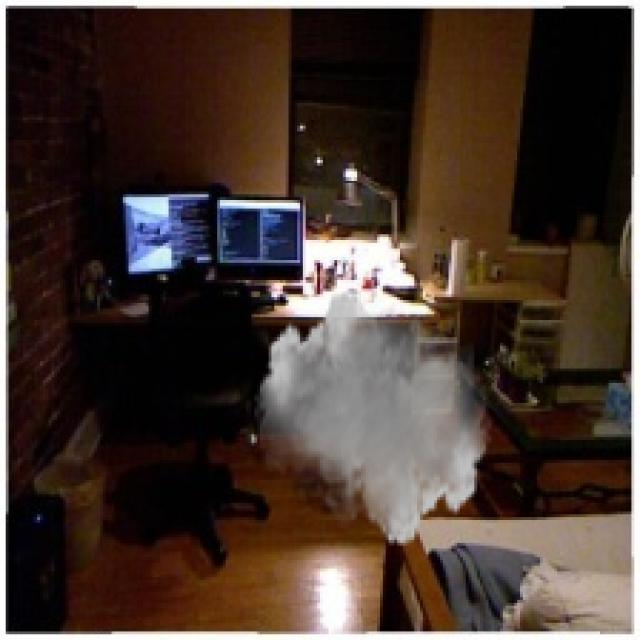smoke: (254, 288, 492, 548)
